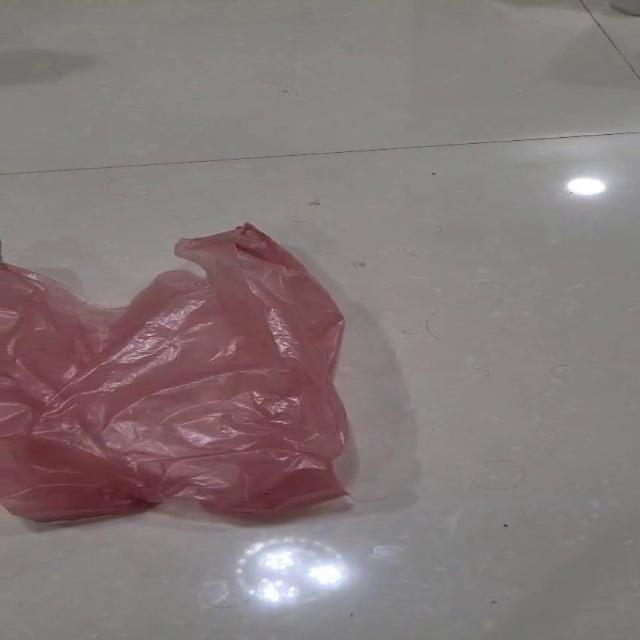plastic: (0, 220, 353, 522)
